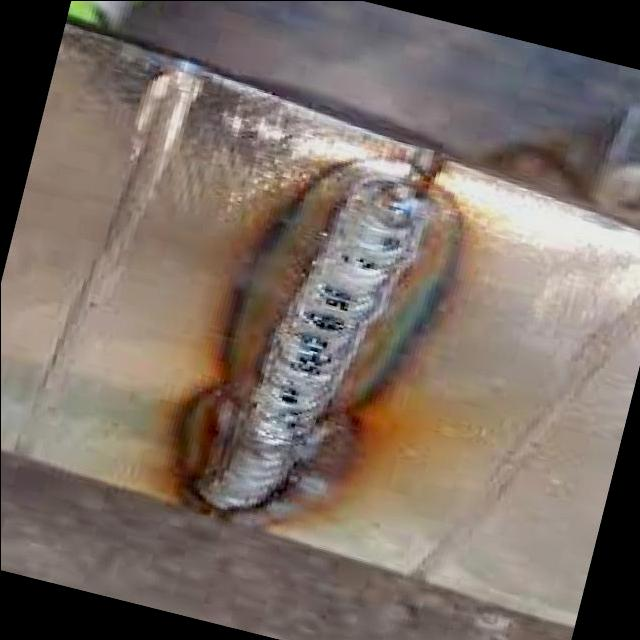defect: (283, 324, 340, 380), (298, 306, 351, 338), (312, 282, 352, 316), (340, 252, 379, 275), (268, 383, 303, 407)
